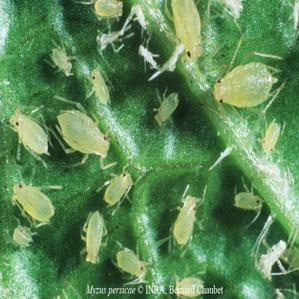Green peach aphid: (204, 54, 287, 116), (46, 101, 116, 164), (4, 99, 61, 166), (159, 0, 214, 65), (161, 184, 212, 254), (2, 181, 64, 232), (89, 163, 148, 216), (142, 81, 193, 138), (74, 204, 112, 272), (221, 173, 273, 219), (109, 243, 151, 291), (166, 265, 223, 299), (84, 60, 121, 109), (254, 111, 291, 159), (44, 36, 79, 83), (80, 0, 133, 26), (6, 223, 40, 254)
